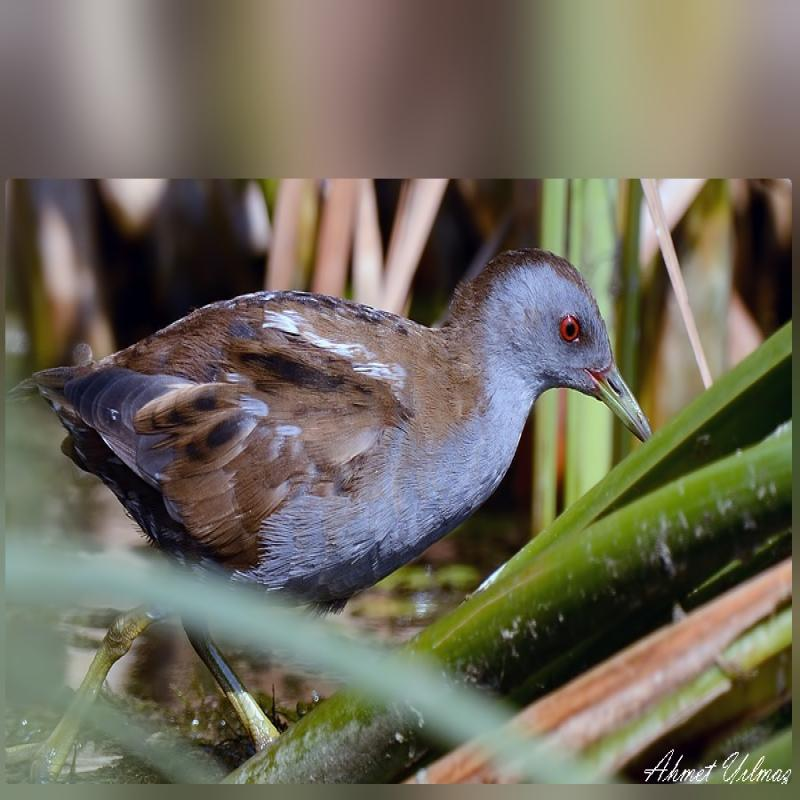little crake: (14, 244, 663, 604)
